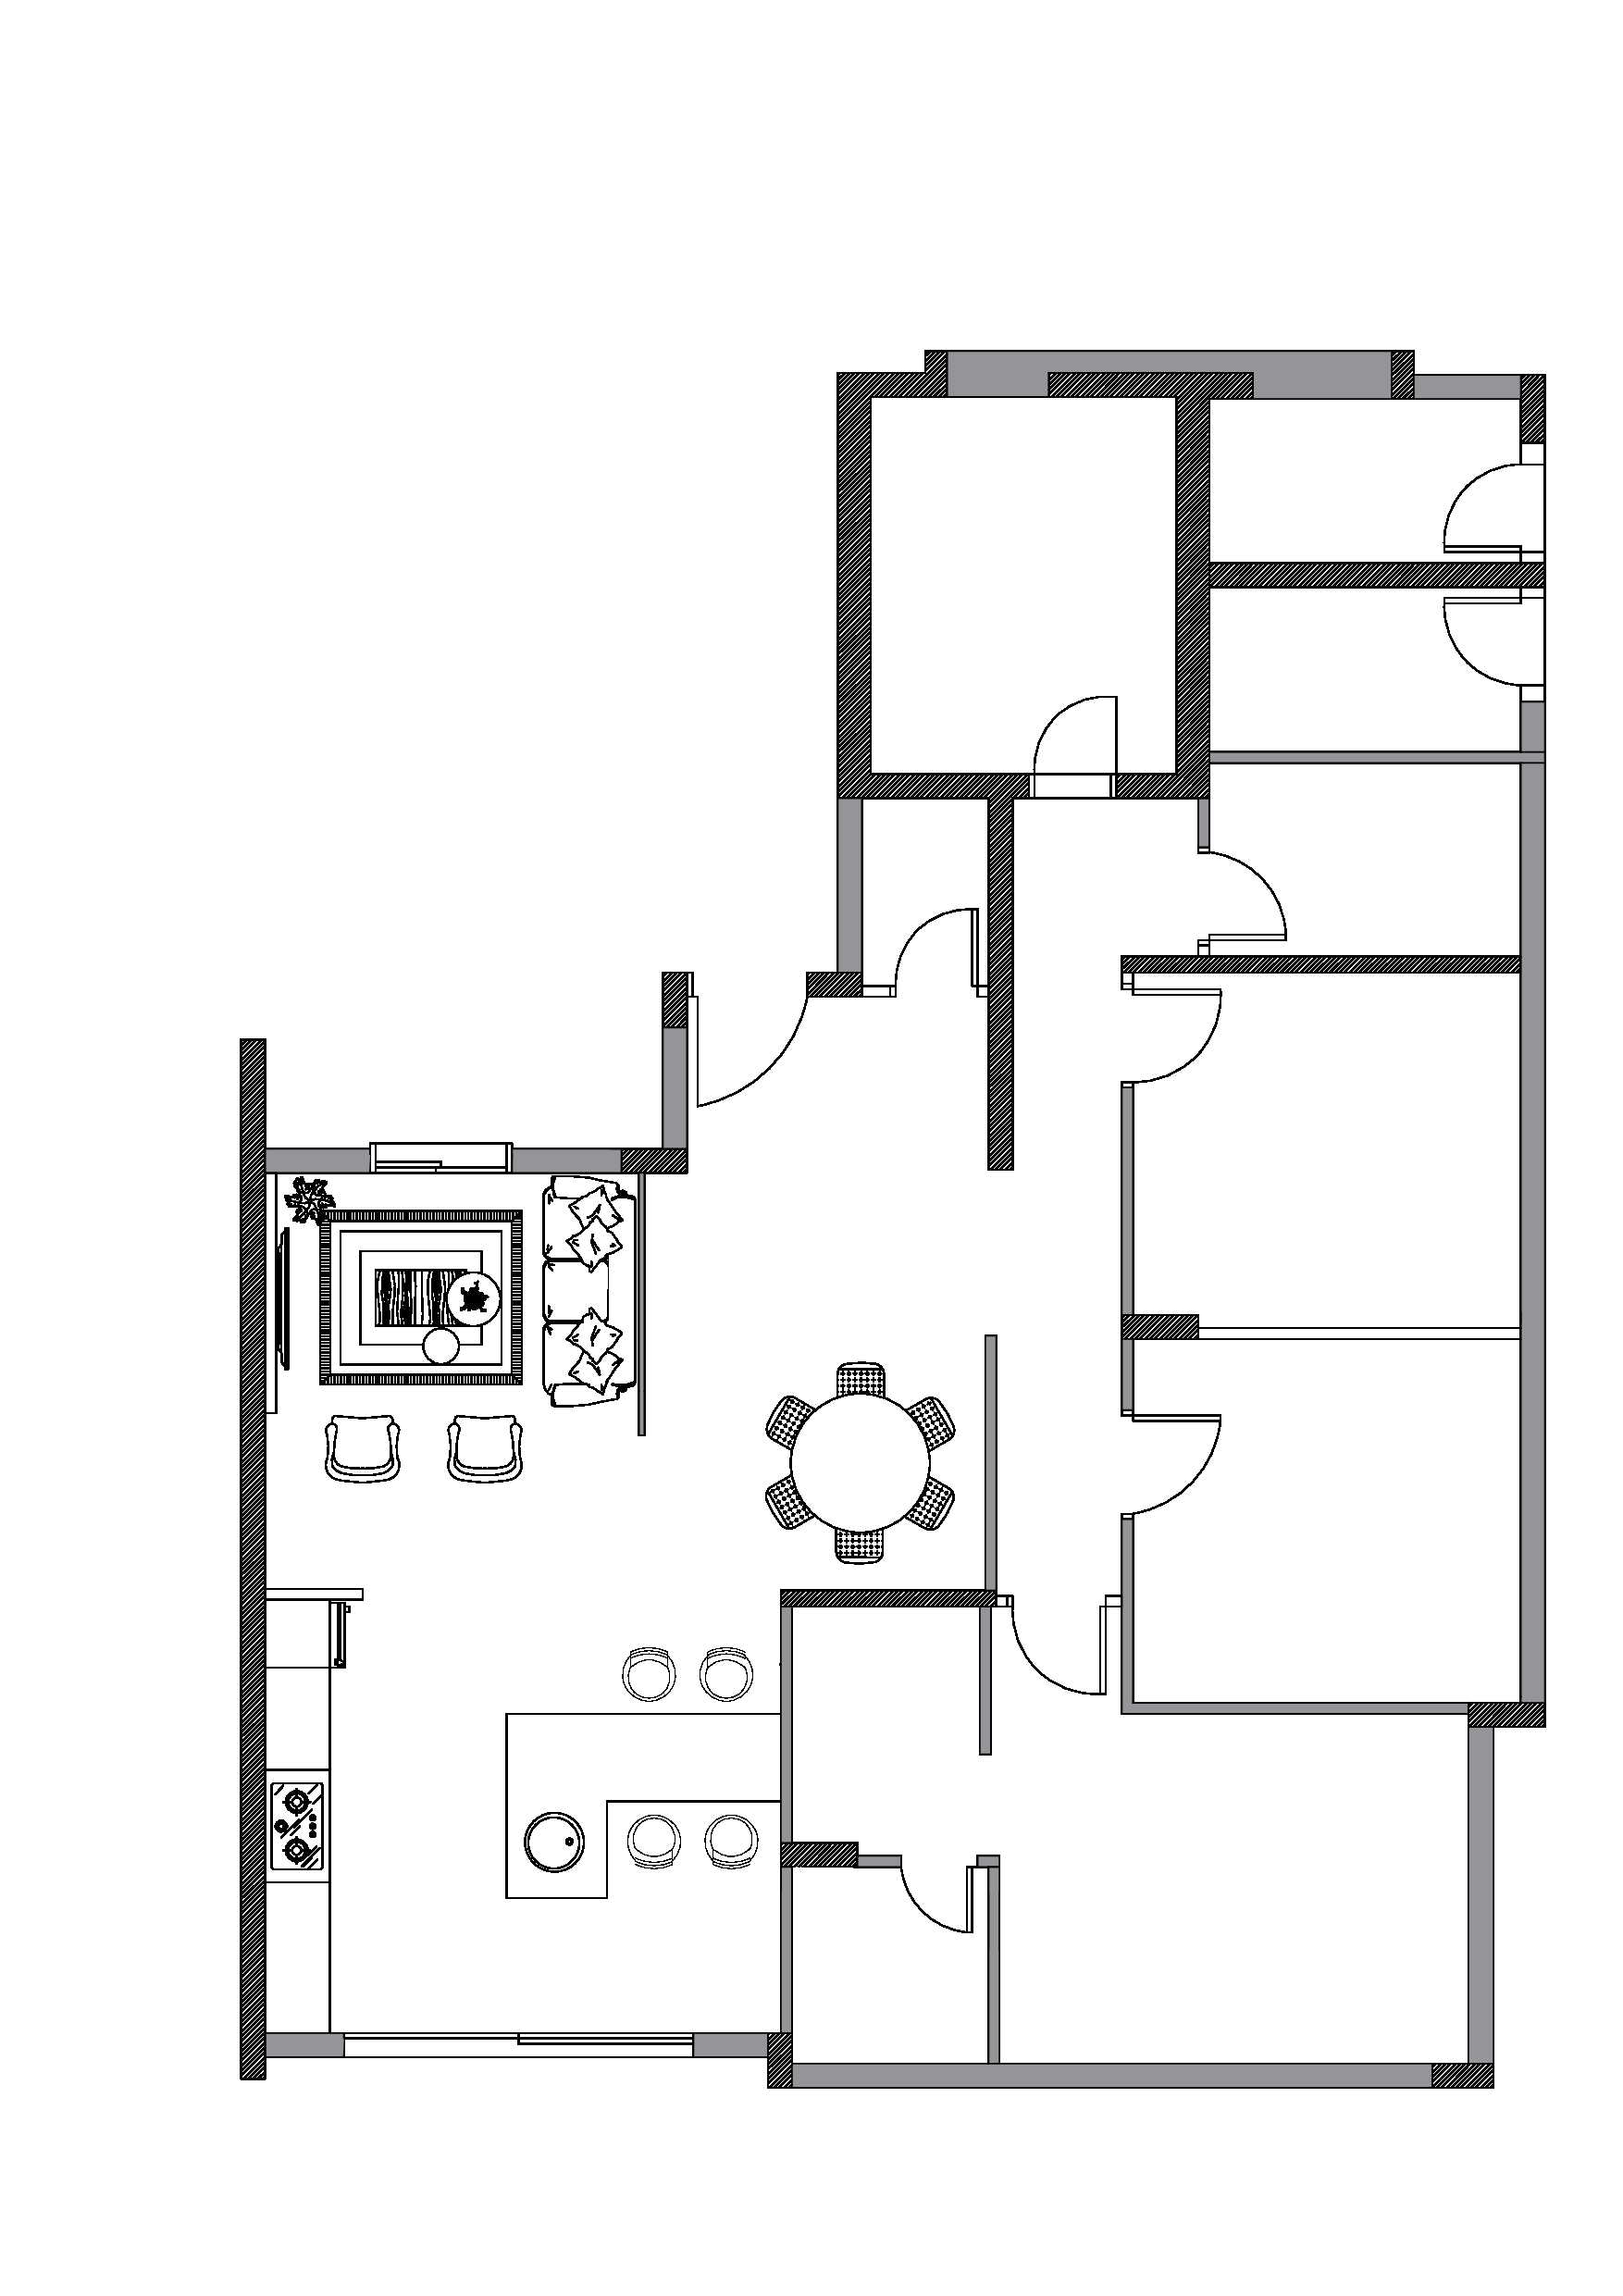door: (683, 1008, 838, 1145), (1145, 975, 1252, 1103), (991, 1620, 1126, 1715), (1143, 1405, 1251, 1518), (1215, 848, 1323, 949), (1026, 668, 1133, 768), (880, 873, 987, 973), (889, 1878, 985, 1975)
wall: (241, 1040, 270, 2066), (1521, 752, 1546, 1690), (794, 2061, 1425, 2090), (1173, 401, 1208, 794), (838, 372, 869, 787), (989, 775, 1017, 1177), (1173, 564, 1540, 585)
